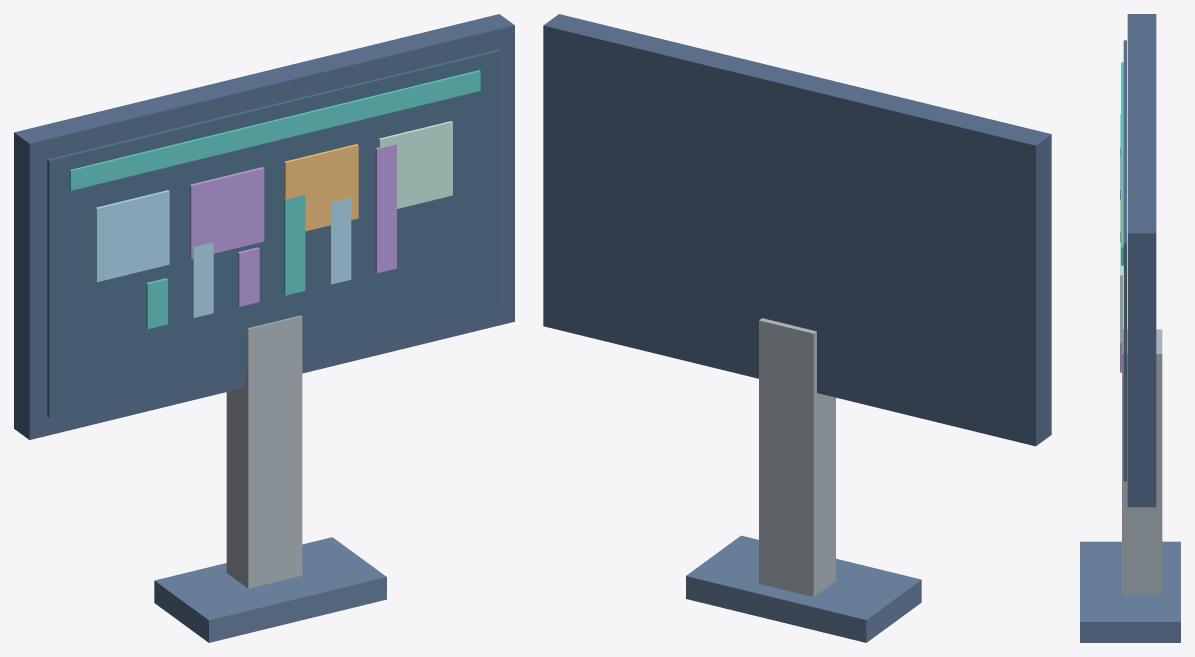
File: wall_display.glb
3 views of the same model, side by side, from view 1: azimuth 30°, elevation 25°; view 2: azimuth 150°, elevation 25°; view 3: azimuth 270°, elevation 25° (orthographic). The views are drawn at different scales.
Visible parts, largest first — view 1: display_screen, display_frame, stand, foot, display_header, card_0, card_1, card_2, card_3, bar_5, bar_3, bar_4 (+3 smaller); view 2: display_frame, stand, foot; view 3: display_frame, foot, stand, display_screen, display_header, card_3.
Boxes of the visible parts, bbox=[...] form: display_screen: bbox=[47, 49, 499, 417]; display_frame: bbox=[14, 14, 514, 439]; stand: bbox=[226, 315, 302, 588]; foot: bbox=[154, 537, 386, 642]; display_header: bbox=[69, 70, 480, 190]; card_0: bbox=[95, 190, 169, 282]; card_1: bbox=[189, 167, 264, 259]; card_2: bbox=[284, 144, 358, 231]; card_3: bbox=[378, 121, 452, 208]; bar_5: bbox=[375, 144, 396, 273]; bar_3: bbox=[283, 195, 305, 295]; bar_4: bbox=[329, 198, 351, 284]; display_frame: bbox=[543, 14, 1051, 446]; stand: bbox=[759, 318, 835, 596]; foot: bbox=[686, 535, 921, 642]; display_frame: bbox=[1127, 14, 1156, 507]; foot: bbox=[1080, 541, 1180, 642]; stand: bbox=[1122, 329, 1162, 593]; display_screen: bbox=[1123, 40, 1126, 481]; display_header: bbox=[1121, 62, 1123, 265]; card_3: bbox=[1120, 242, 1122, 342].
Bounding box in the file's own units: 1.8 × 1.84 × 0.35.
